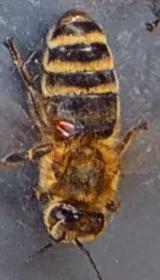varroa_mite: (42, 108, 84, 146)
